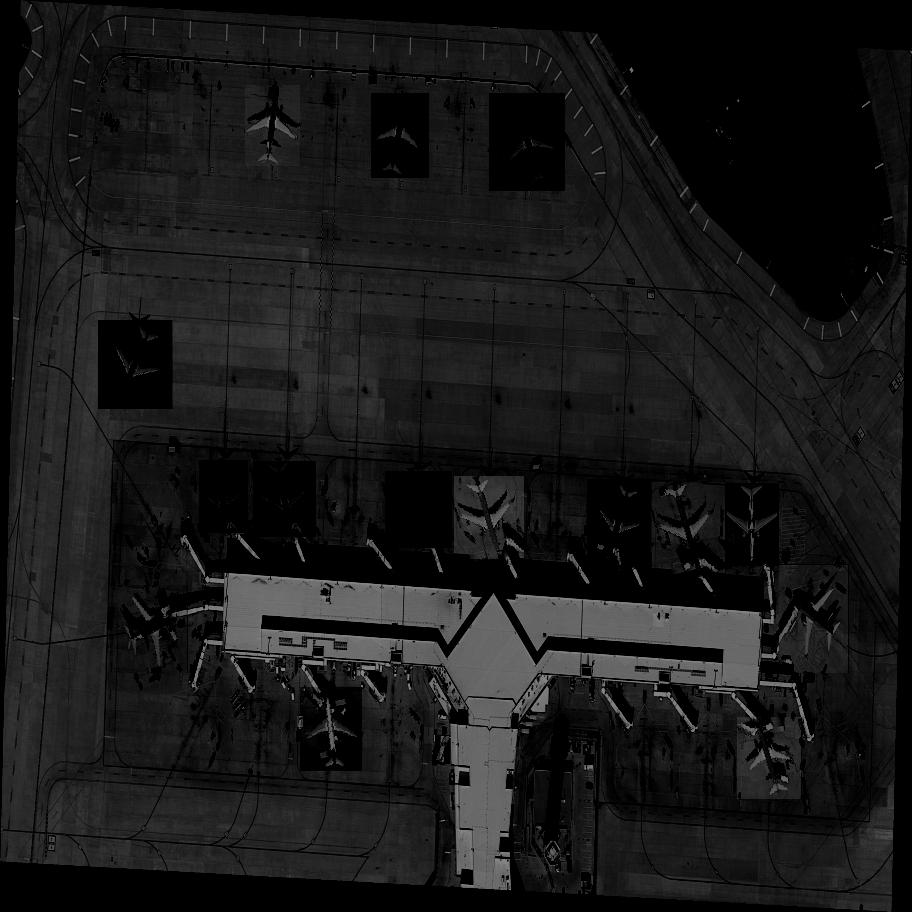large-vehicle: (108, 615, 114, 631), (804, 676, 814, 684), (530, 466, 540, 471), (786, 668, 794, 673), (656, 592, 659, 602)
plane: (771, 565, 857, 673), (652, 479, 727, 583), (489, 93, 566, 192), (98, 321, 175, 410), (454, 472, 524, 564), (118, 585, 190, 674), (587, 480, 657, 570), (386, 466, 453, 553), (738, 713, 802, 802), (254, 456, 317, 543), (300, 687, 362, 772), (372, 93, 430, 179), (246, 86, 302, 168), (726, 484, 781, 566), (200, 459, 248, 535), (436, 735, 452, 765)
small-vehicle: (583, 744, 593, 755), (570, 678, 577, 690), (449, 773, 455, 786), (380, 532, 387, 543), (298, 716, 304, 728), (673, 590, 679, 601), (347, 664, 352, 677), (784, 660, 793, 667), (565, 741, 570, 752), (438, 714, 447, 720), (590, 682, 593, 700), (555, 862, 560, 872), (169, 448, 179, 453), (581, 875, 589, 881), (674, 487, 683, 492), (573, 742, 578, 751), (451, 796, 455, 807), (569, 742, 574, 750), (568, 862, 572, 871), (562, 741, 565, 752), (585, 765, 593, 769), (297, 731, 300, 741), (578, 743, 581, 753), (538, 758, 545, 762), (357, 667, 360, 675), (352, 670, 354, 678), (433, 750, 434, 764), (619, 685, 620, 691)
